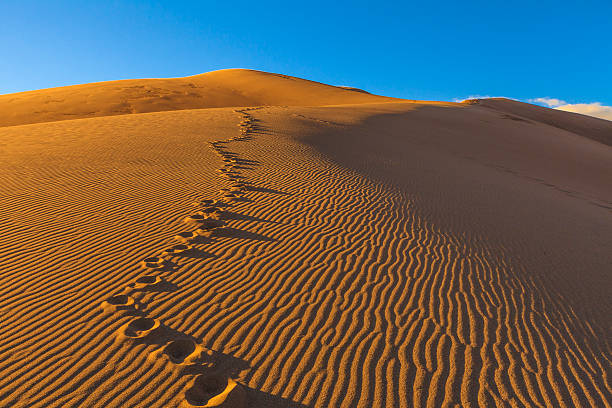human_footprint: (103, 110, 254, 310)
